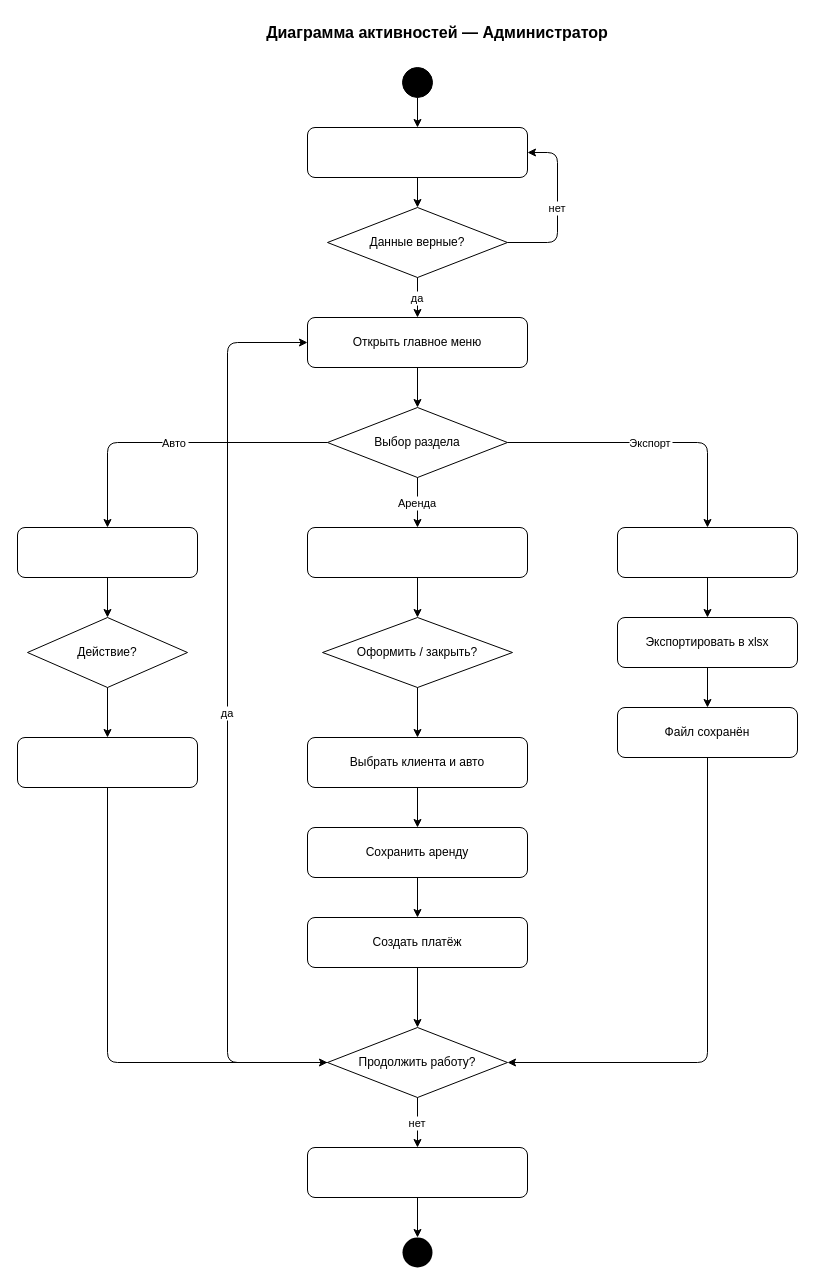
Image size: 815x1284. Some labels were removed from this diagram. Here are the shapes that lost their labels. From the top down, the centre of each, then its label:
(x=417, y=152): Ввод логина и пароля
(x=107, y=552): Просмотр автомобилей
(x=417, y=552): Список аренд
(x=707, y=552): Выбрать таблицы
(x=107, y=762): Сохранить запись
(x=417, y=1172): Выход из системы
